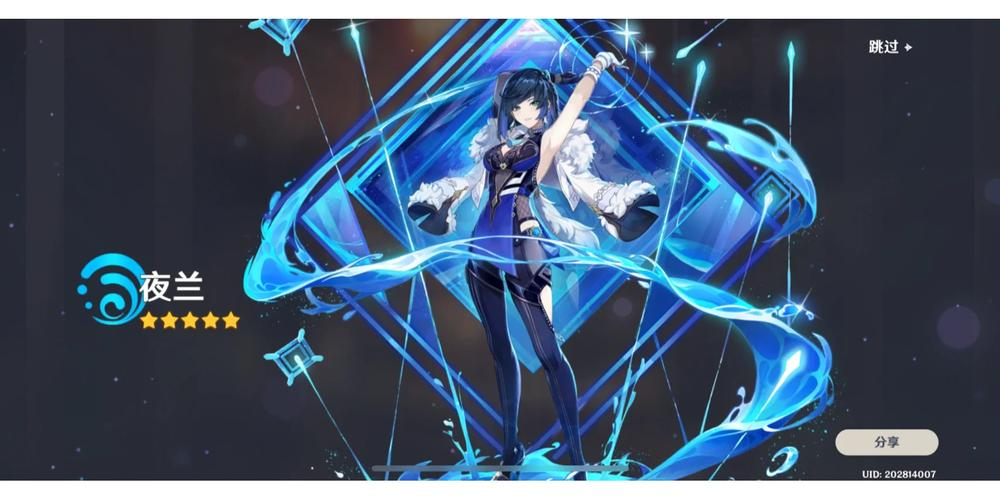夜兰: (462, 44, 632, 480)
